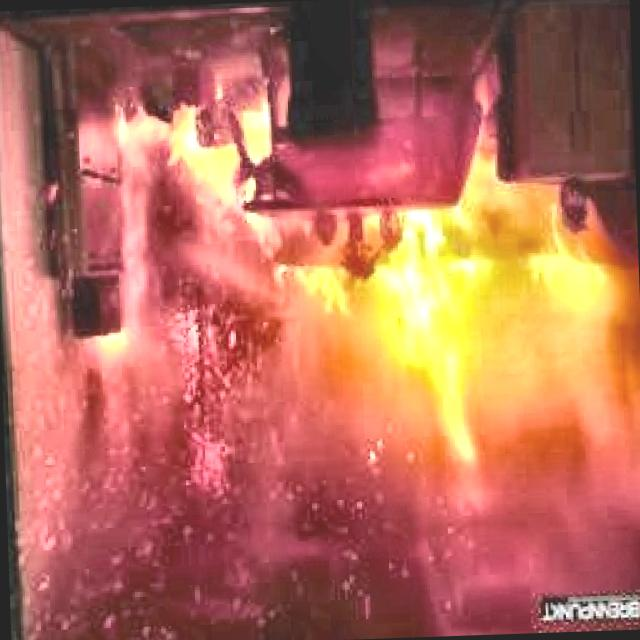fire: (120, 100, 633, 556)
